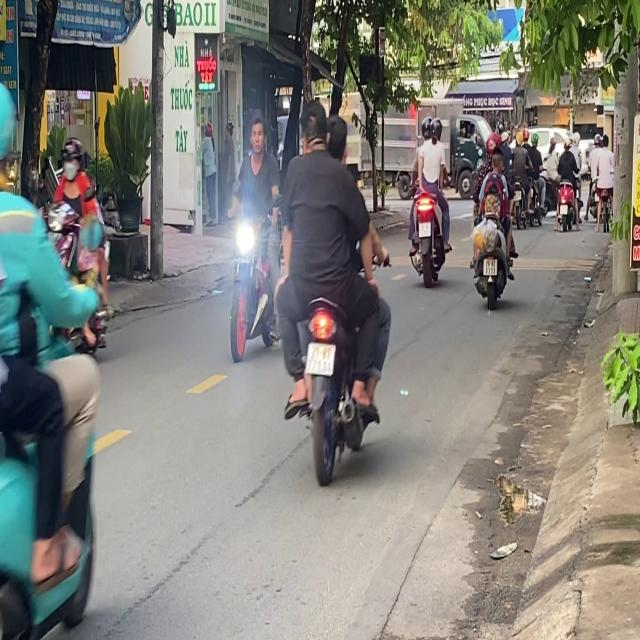helmet: (0, 77, 20, 188), (59, 137, 84, 179), (429, 116, 441, 141), (420, 115, 432, 139)
licenseplate: (0, 73, 114, 638), (274, 98, 393, 482), (227, 113, 282, 358), (469, 112, 516, 308), (406, 114, 451, 284)
motorcyclist: (299, 99, 330, 152), (326, 114, 348, 162), (247, 117, 266, 159), (487, 133, 504, 169)
nohelmet: (306, 342, 334, 374), (483, 258, 496, 276), (418, 222, 431, 236)
